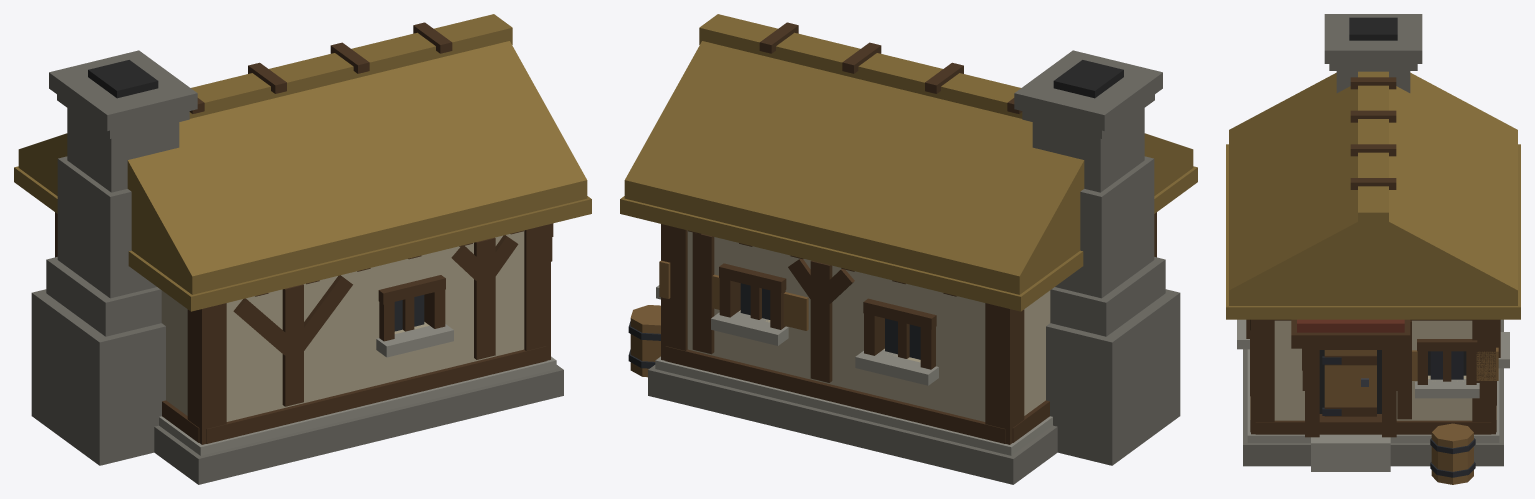
File: cottage_a.glb
The picture shows the model from 3 angles, left to right: view 1: azimuth 30°, elevation 25°; view 2: azimuth 150°, elevation 25°; view 3: azimuth 270°, elevation 25°; orthographic projection. The views are drawn at different scales.
Visible parts, largest first — view 1: Cube.102, Cube.108, Cube.016, Cube, Cube.101, Cube.100, Cube.103, Cube.110, Cube.019, Cube.113, Cube.074, Cube.069 (+19 smaller); view 2: Cube.102, Cube.108, Cube, Cube.101, Cube.100, Cube.103, Cube.110, Cube.009, Cube.012, Cube.113, Cube.074, Cube.070 (+29 smaller); view 3: Cube.102, Cube.100, Cube.101, Cube, Cube.113, Cube.103, Cube.030, Cube.073, Cube.002, Cube.071, Cube.021, Cube.035 (+30 smaller).
Part boxes in pixels (left/top/right/bottom): Cube.102: left=19, top=41, right=586, bottom=276; Cube.108: left=31, top=289, right=165, bottom=465; Cube.016: left=226, top=263, right=389, bottom=421; Cube: left=154, top=365, right=563, bottom=484; Cube.101: left=18, top=149, right=587, bottom=294; Cube.100: left=14, top=166, right=591, bottom=311; Cube.103: left=189, top=14, right=512, bottom=118; Cube.110: left=57, top=156, right=156, bottom=298; Cube.019: left=430, top=230, right=524, bottom=372; Cube.113: left=49, top=50, right=197, bottom=130; Cube.074: left=206, top=346, right=546, bottom=443; Cube.069: left=187, top=303, right=226, bottom=444; Cube.102: left=625, top=41, right=1192, bottom=276; Cube.108: left=1046, top=289, right=1180, bottom=465; Cube: left=648, top=365, right=1057, bottom=484; Cube.101: left=624, top=149, right=1193, bottom=294; Cube.100: left=620, top=166, right=1197, bottom=311; Cube.103: left=699, top=14, right=1022, bottom=118; Cube.110: left=1055, top=156, right=1154, bottom=298; Cube.009: left=926, top=288, right=985, bottom=421; Cube.012: left=775, top=252, right=878, bottom=395; Cube.113: left=1014, top=50, right=1162, bottom=130; Cube.074: left=665, top=346, right=1005, bottom=443; Cube.070: left=985, top=303, right=1024, bottom=444; Cube.102: left=1229, top=72, right=1517, bottom=290; Cube.100: left=1226, top=144, right=1520, bottom=319; Cube.101: left=1229, top=290, right=1517, bottom=305; Cube: left=1243, top=319, right=1503, bottom=466; Cube.113: left=1324, top=14, right=1422, bottom=63; Cube.103: left=1358, top=71, right=1388, bottom=226; Cube.030: left=1311, top=434, right=1390, bottom=471; Cube.073: left=1255, top=414, right=1491, bottom=434; Cube.002: left=1274, top=320, right=1304, bottom=420; Cube.071: left=1251, top=319, right=1274, bottom=434; Cube.021: left=1324, top=350, right=1376, bottom=406; Cube.035: left=1291, top=319, right=1410, bottom=348.
Size of the model in its own units: 79.25 by 57 by 52.
